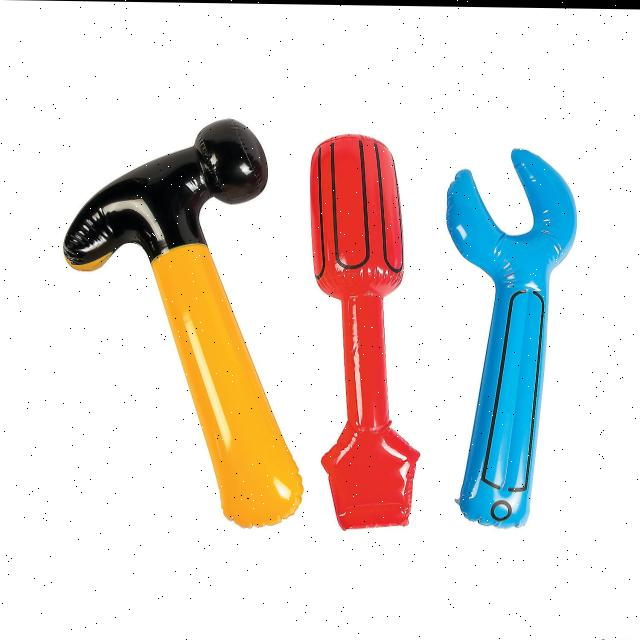Screwdriver: (311, 134, 420, 528)
